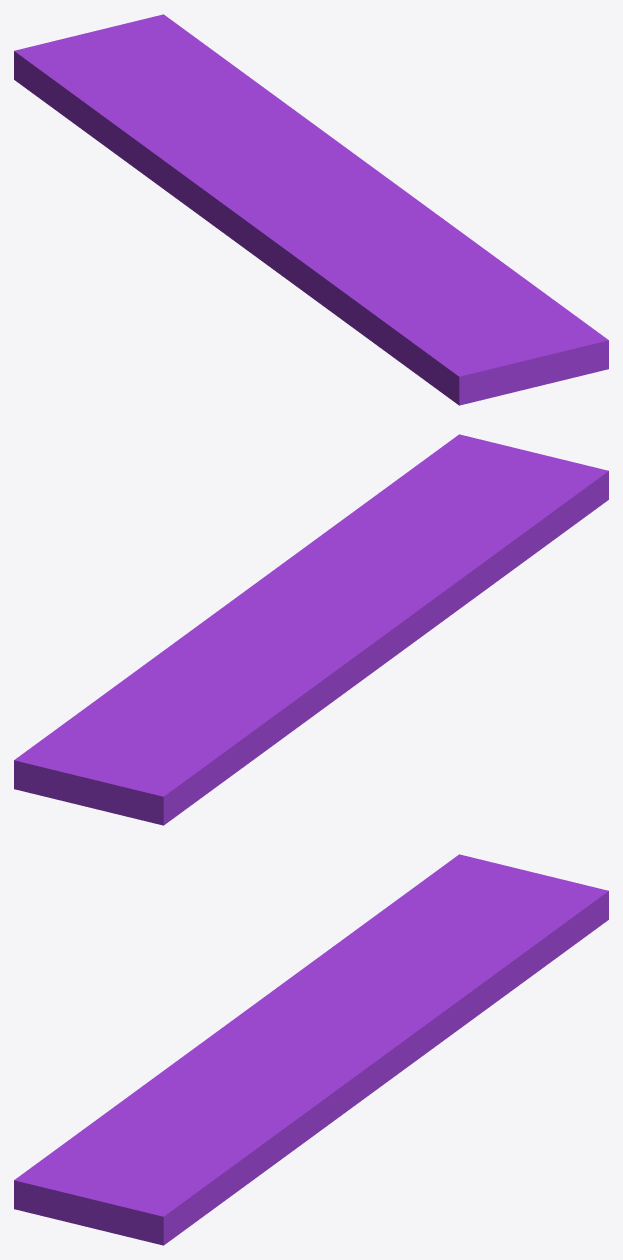
Rendered from StairsStep_94_chunks.fbx.
The picture shows the model from 3 angles, top to bottom: view 1: azimuth 30°, elevation 25°; view 2: azimuth 150°, elevation 25°; view 3: azimuth 330°, elevation 25°; orthographic projection.
Visible parts, largest first — view 1: StairsStep_94_0, StairsStep_94_1, StairsStep_94_2, StairsStep_94_3; view 2: StairsStep_94_1, StairsStep_94_0, StairsStep_94_2, StairsStep_94_3; view 3: StairsStep_94_0, StairsStep_94_1, StairsStep_94_2, StairsStep_94_3.
Part boxes in pixels (x1=…): StairsStep_94_0: x1=244, y1=201, x2=608, y2=405; StairsStep_94_1: x1=14, y1=14, x2=305, y2=248; StairsStep_94_2: x1=178, y1=25, x2=366, y2=175; StairsStep_94_3: x1=304, y1=163, x2=453, y2=226; StairsStep_94_1: x1=14, y1=615, x2=399, y2=825; StairsStep_94_0: x1=304, y1=434, x2=608, y2=656; StairsStep_94_2: x1=14, y1=611, x2=272, y2=792; StairsStep_94_3: x1=218, y1=548, x2=326, y2=627; StairsStep_94_0: x1=14, y1=1027, x2=343, y2=1245; StairsStep_94_1: x1=223, y1=854, x2=608, y2=1035; StairsStep_94_2: x1=350, y1=898, x2=608, y2=1101; StairsStep_94_3: x1=296, y1=1023, x2=404, y2=1113.
Bounding box in the file's own units: 157 × 28.98 × 810.
